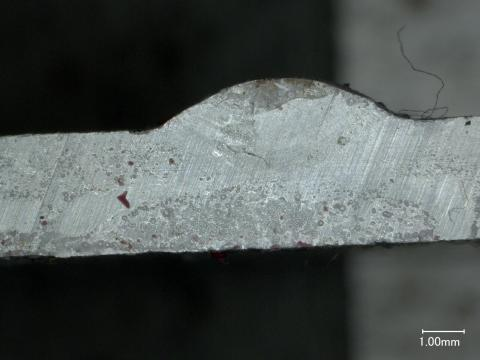test: (159, 77, 404, 129)
